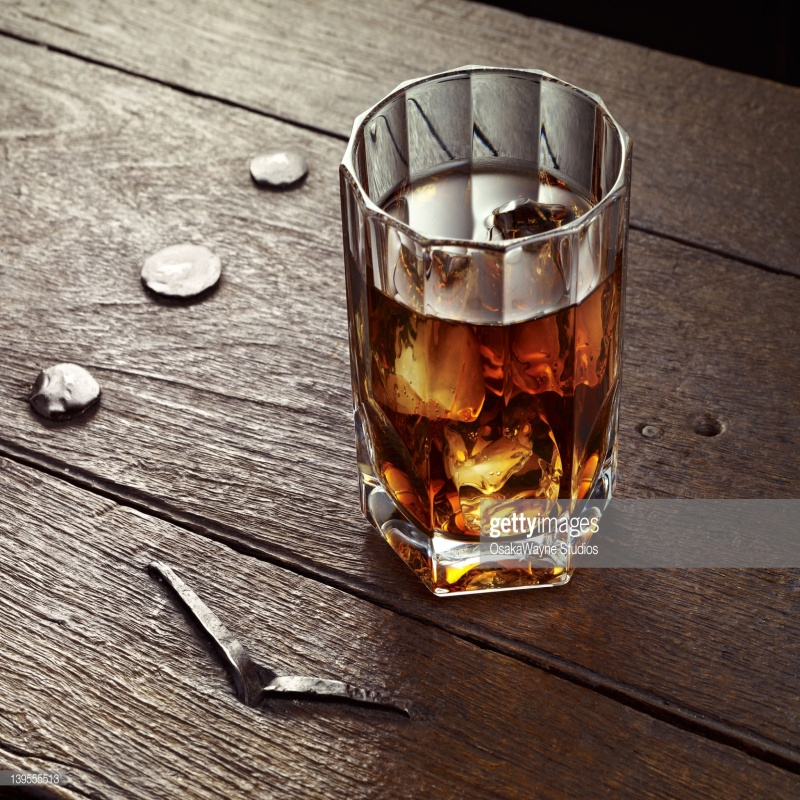whiskey: (345, 59, 622, 578)
